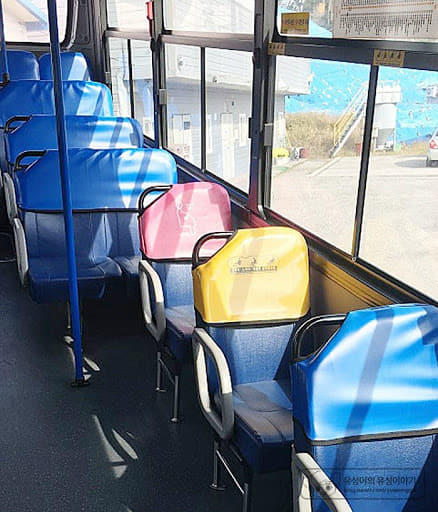seat: (194, 226, 309, 445)
